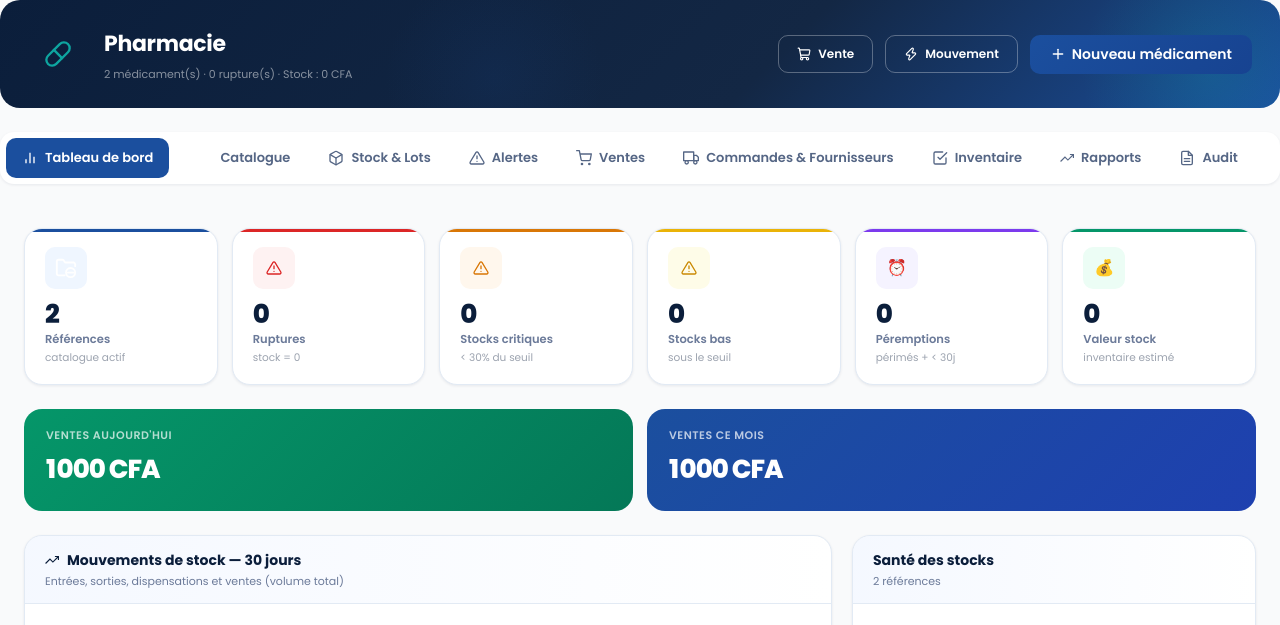
Scenario: POST5-014 — les boutons de filtre Audit filtrent réellement le tableau, jamais un clic sans effet
The image size is (1280, 625).
Expected: the text "Tableau de bord" is shown, [45,148,153,168]
Click the button "Audit".
click(1209, 158)  # box [1164,138,1254,178]
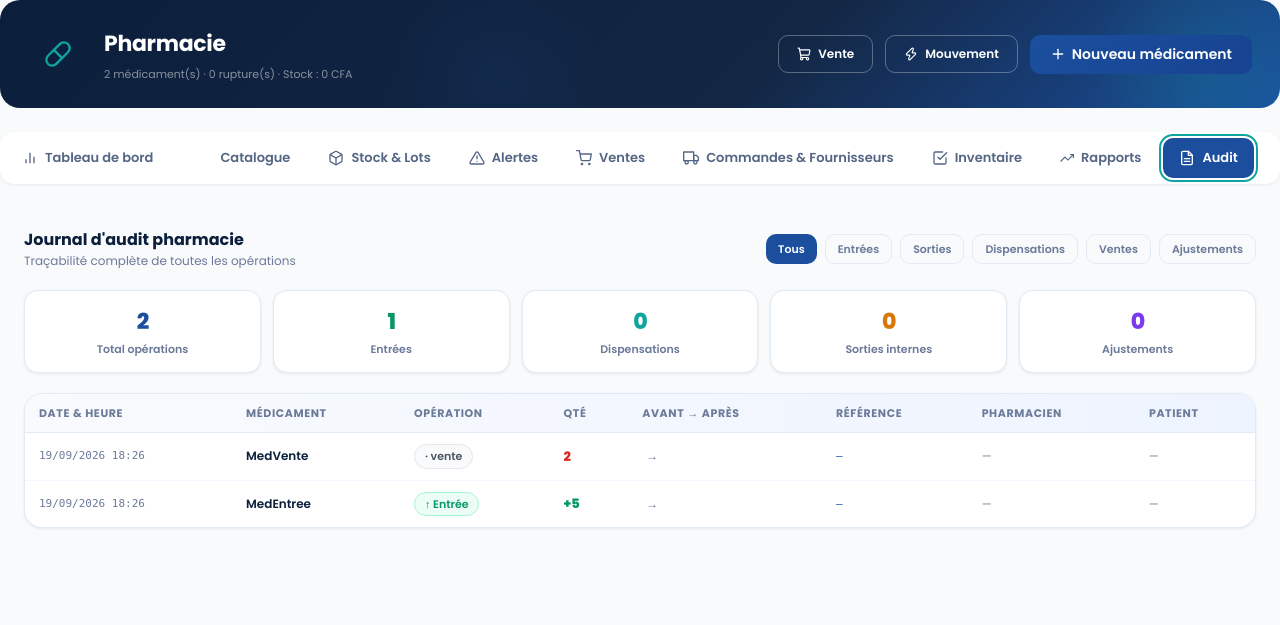
Expected: the text "MedVente" is shown, [232,432,400,480]
Expected: the text "MedEntree" is shown, [232,480,400,527]
Click the button "Ventes" in the row of "Journal d'audit pharmacie".
click(1118, 249)  # box [1086,234,1151,264]
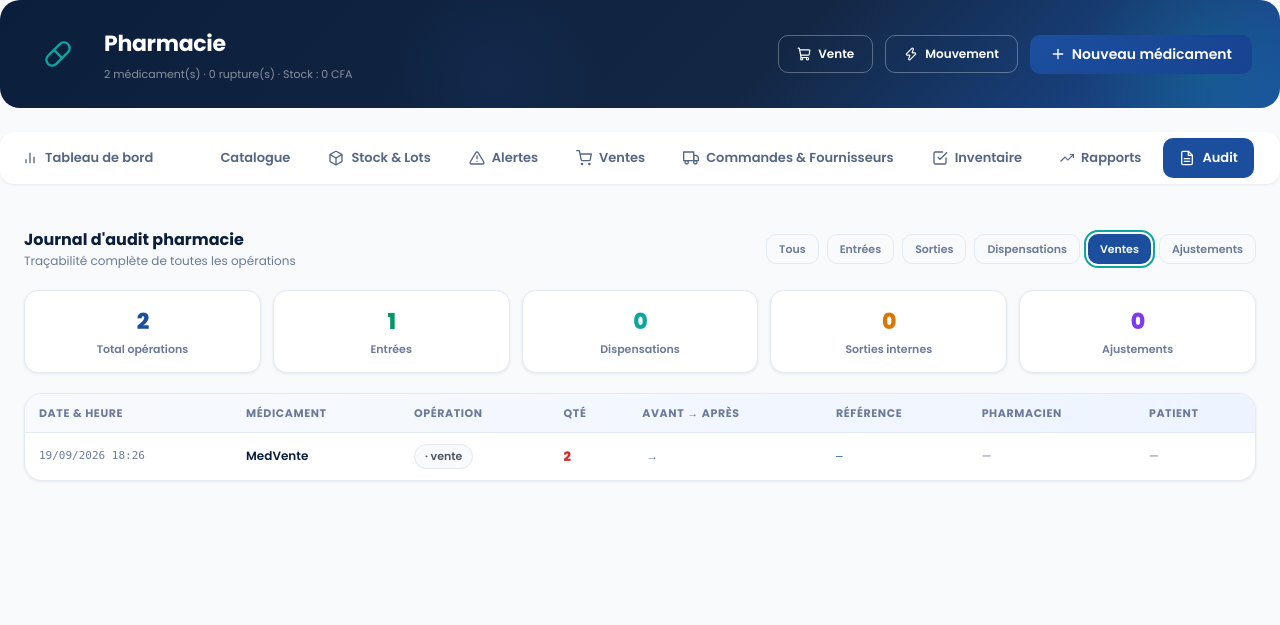
Expected: the text "MedVente" is shown, [232,432,400,480]
Now the text "MedEntree" is gone
Click the button "Entrées".
click(860, 249)  # box [827,234,894,264]
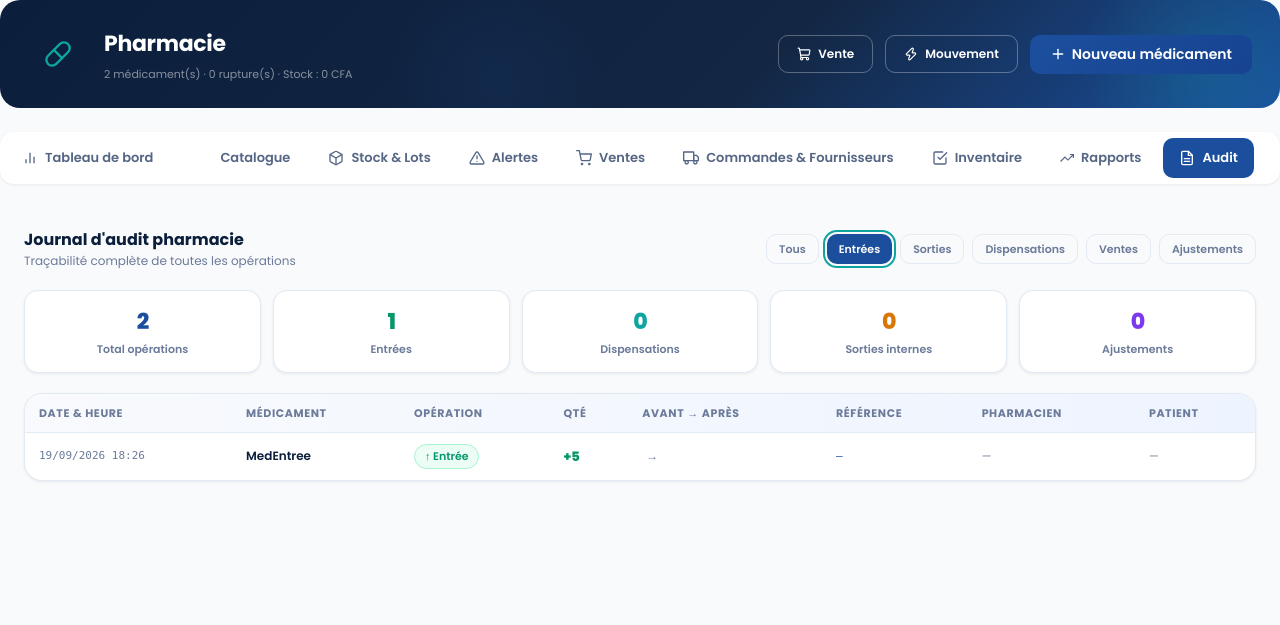
Now the text "MedVente" is gone
Now the text "MedEntree" is shown, box [232,432,400,480]
Click the button "Tous".
click(792, 249)  # box [766,234,819,264]
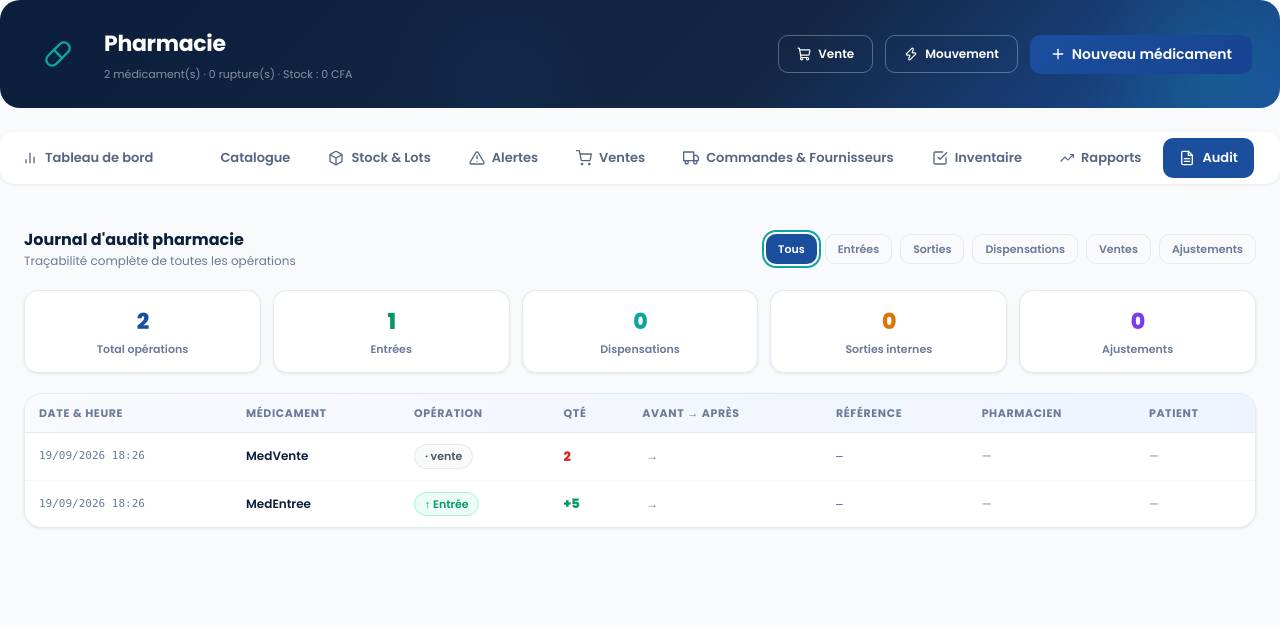
Now the text "MedEntree" is shown, box [232,480,400,527]
Now the text "MedVente" is shown, box [232,432,400,480]
